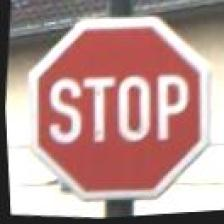Stop: (11, 0, 223, 212)
